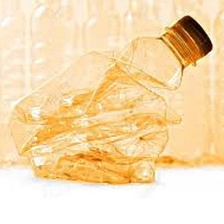bottle: (6, 11, 216, 189)
